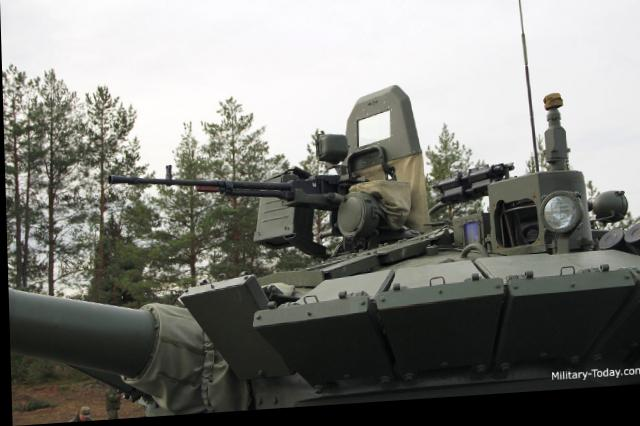tank: (108, 82, 640, 419)
